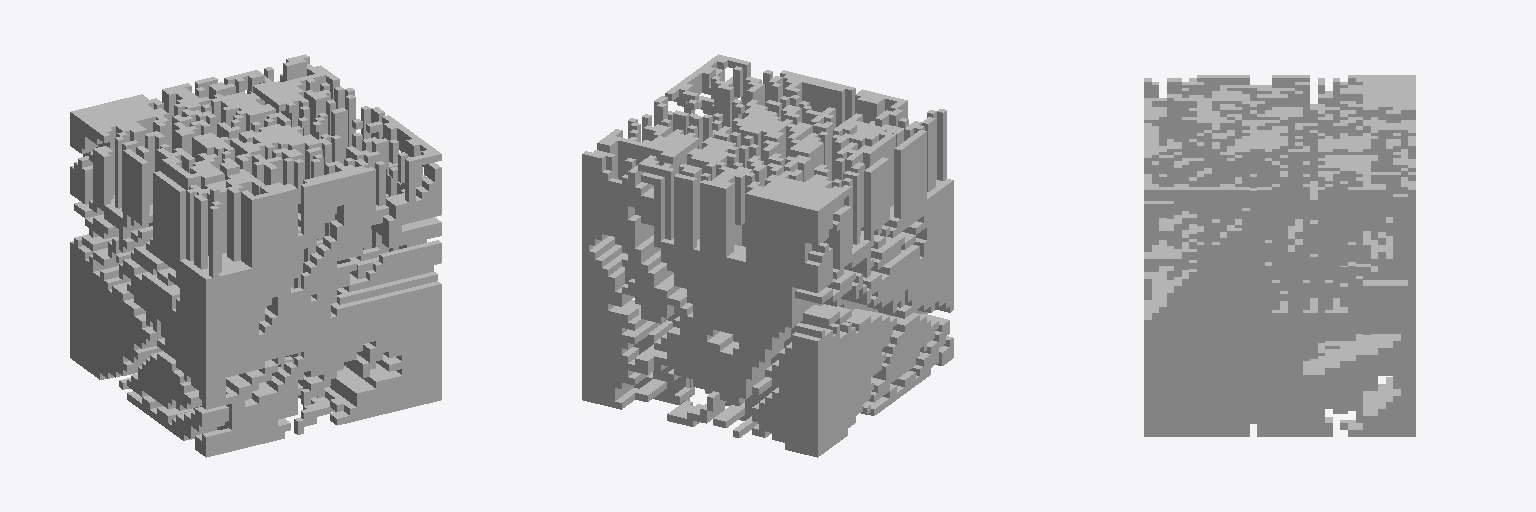
Rendered from wallbaseblock.obj.
3 renders of one model, left to right at view 1: azimuth 30°, elevation 25°; view 2: azimuth 150°, elevation 25°; view 3: azimuth 270°, elevation 25°, orthographic.
Parts seen in each view (by area): view 1: Untitled; view 2: Untitled; view 3: Untitled.
Boxes of the visible parts, box(x1,y1,x2,y2) form: Untitled: box(70, 54, 441, 457); Untitled: box(582, 54, 953, 457); Untitled: box(1144, 75, 1415, 436).
Size of the model in its own units: 3.6 by 3.6 by 3.6.